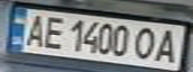0: (112, 23, 133, 57), (96, 20, 115, 55)
1: (63, 17, 84, 52)
4: (81, 19, 100, 54)
A: (151, 27, 184, 64), (18, 11, 51, 48)
E: (39, 13, 69, 51)
O: (130, 25, 163, 61)
